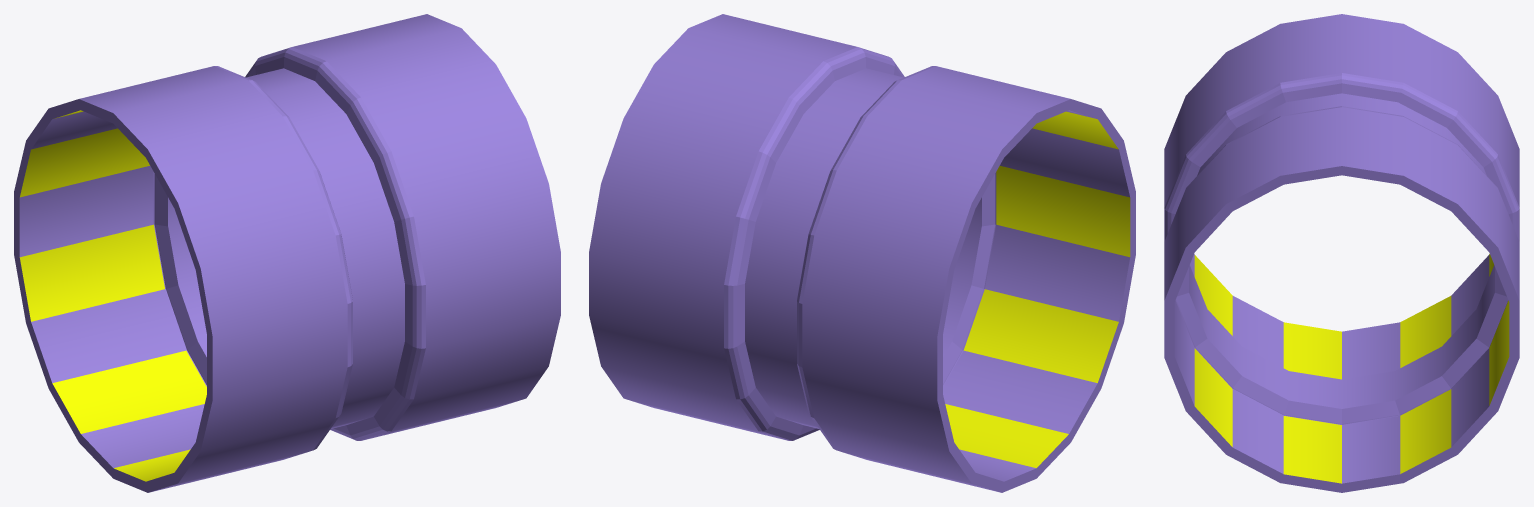
The model's file is tuboRecto.FBX.
The picture shows the model from 3 angles, left to right: view 1: azimuth 30°, elevation 25°; view 2: azimuth 150°, elevation 25°; view 3: azimuth 270°, elevation 25°; orthographic projection. The views are drawn at different scales.
Visible parts, largest first — view 1: Tube001; view 2: Tube001; view 3: Tube001.
Part boxes in pixels (left/top/right/bottom): Tube001: left=14, top=14, right=560, bottom=492; Tube001: left=589, top=14, right=1135, bottom=492; Tube001: left=1164, top=14, right=1519, bottom=492.
Size of the model in its own units: 917 by 906 by 920.
